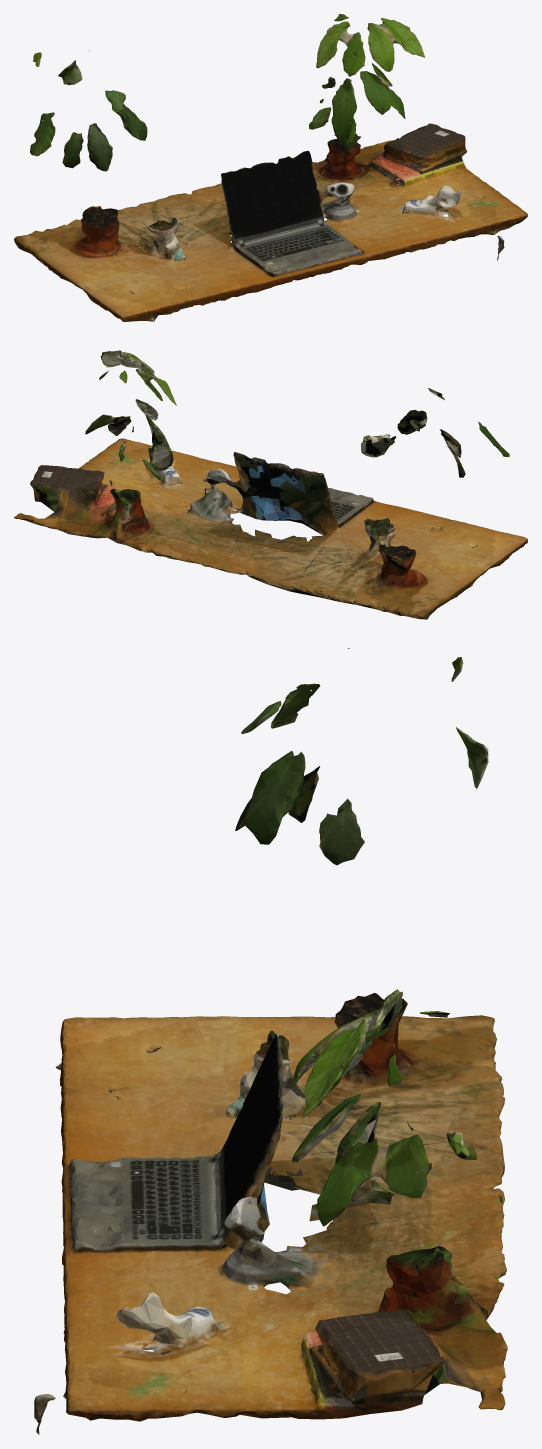
The model's file is table.obj.
The picture shows the model from 3 angles, top to bottom: view 1: azimuth 30°, elevation 25°; view 2: azimuth 150°, elevation 25°; view 3: azimuth 270°, elevation 25°; orthographic projection. The views are drawn at different scales.
Visible parts, largest first — view 1: TexturedMesh.001; view 2: TexturedMesh.001; view 3: TexturedMesh.001.
Boxes of the visible parts, x1=… form: TexturedMesh.001: x1=14, y1=14, x2=527, y2=321; TexturedMesh.001: x1=14, y1=350, x2=527, y2=619; TexturedMesh.001: x1=34, y1=648, x2=507, y2=1434.
Size of the model in its own units: 595 by 294 by 271.
1 material, 1 textured.
